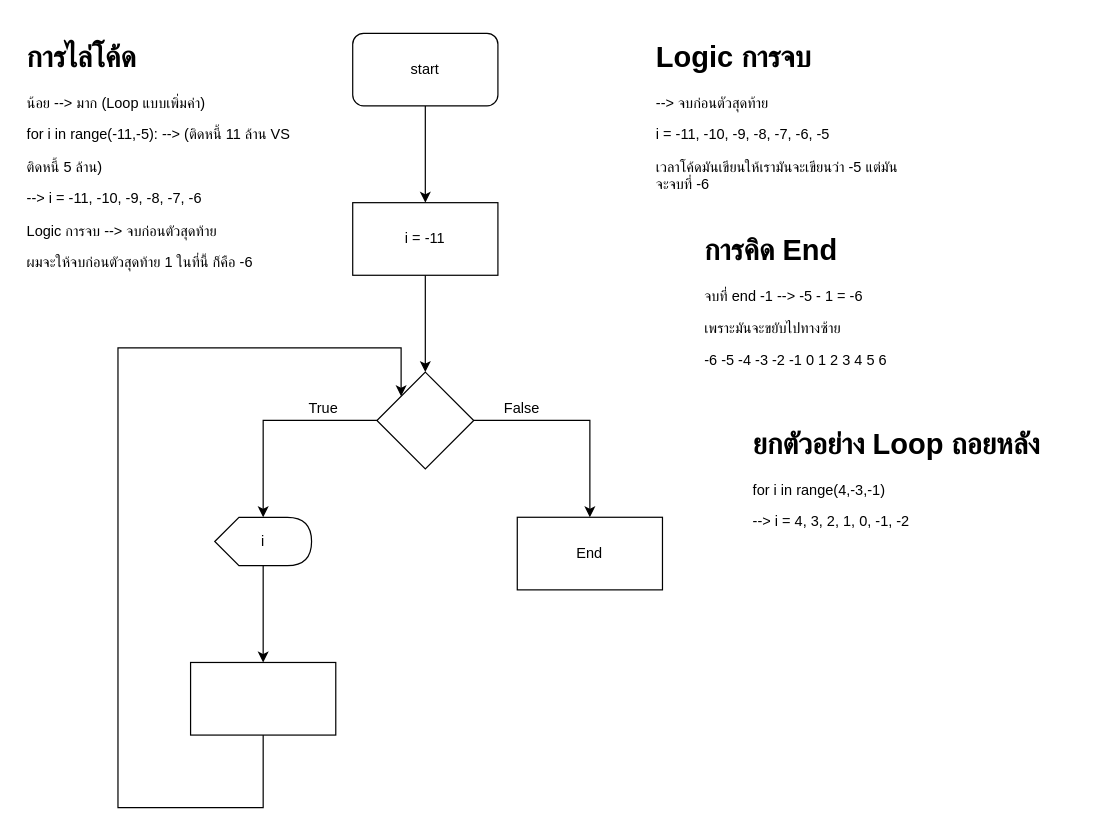
This 1106x839 diagram has some shape labels left out. The shapes that lost their labels are listed below. From the top down, each one's centre as x and y in pixels, then its label:
At (425,420): "i <= -6".
At (262,698): "i += 1".
